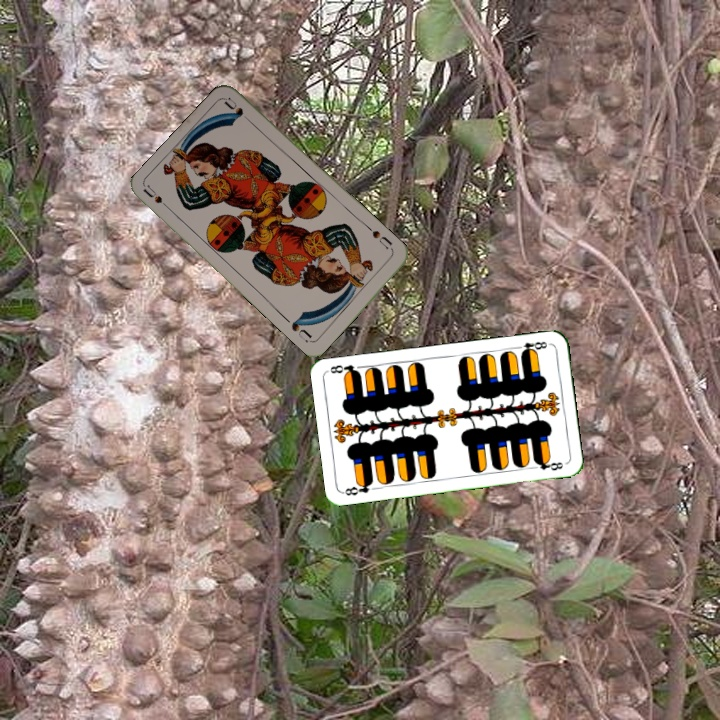E8: (512, 337, 552, 357), (340, 477, 376, 498)
SU: (140, 182, 175, 215), (368, 226, 396, 254)
